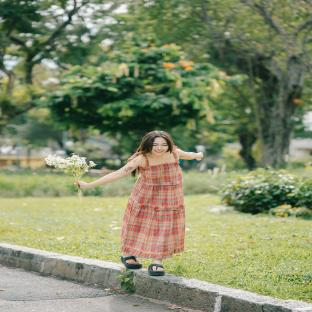Human: (75, 131, 203, 276)
